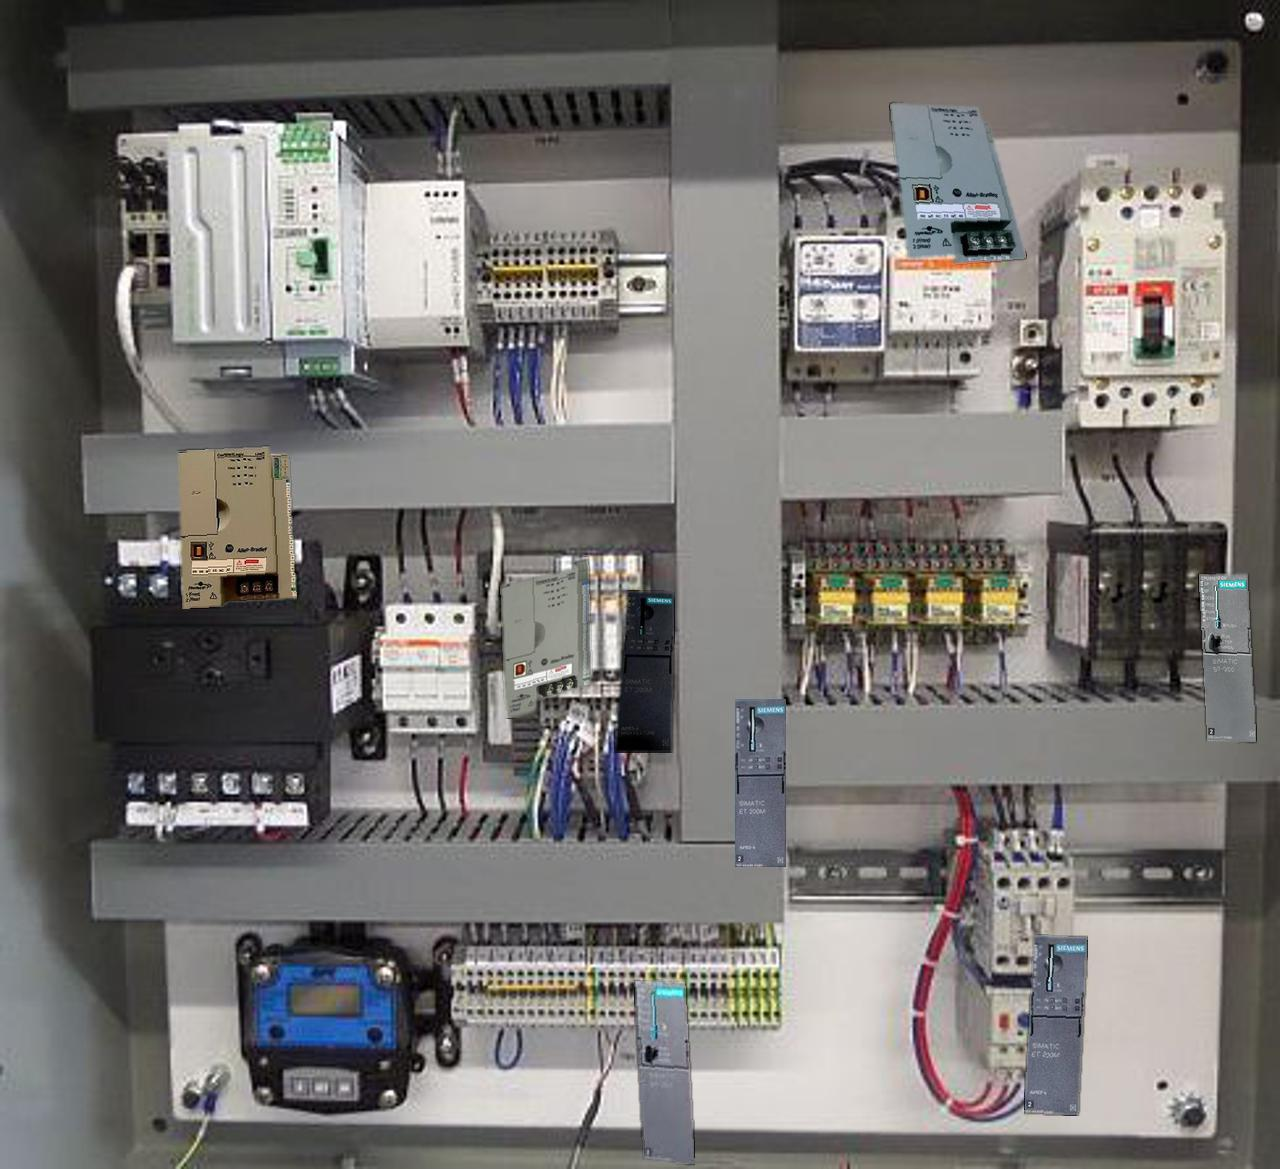AllenBradley: (890, 103, 1025, 263), (178, 447, 295, 608), (500, 557, 590, 717)
Siemens: (634, 980, 694, 1163), (1199, 574, 1255, 741)
